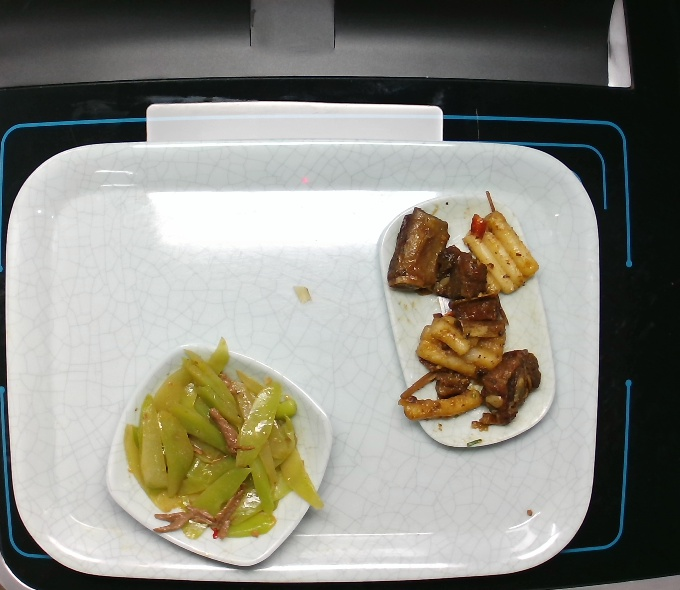wcq-NianGaoZaiPai: (385, 189, 545, 434)
wcq-WoSun: (120, 335, 334, 543)
